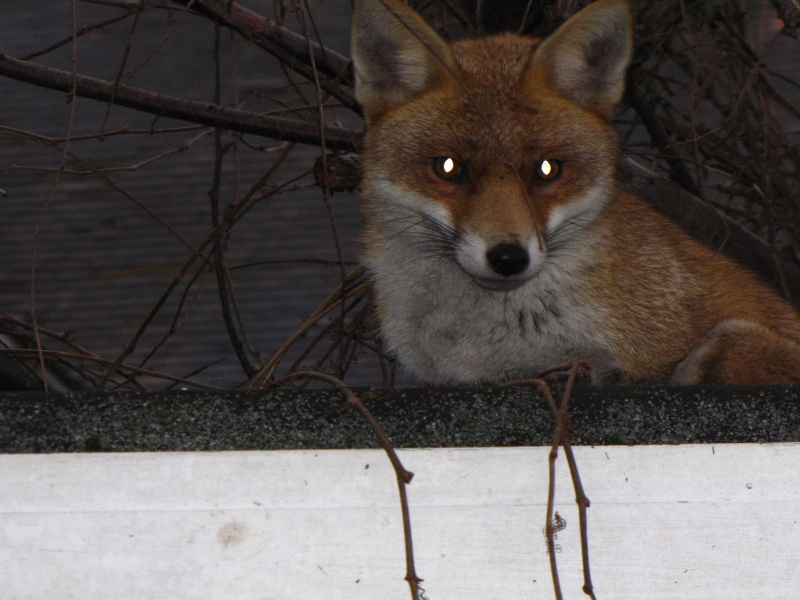fox: (341, 5, 800, 393)
